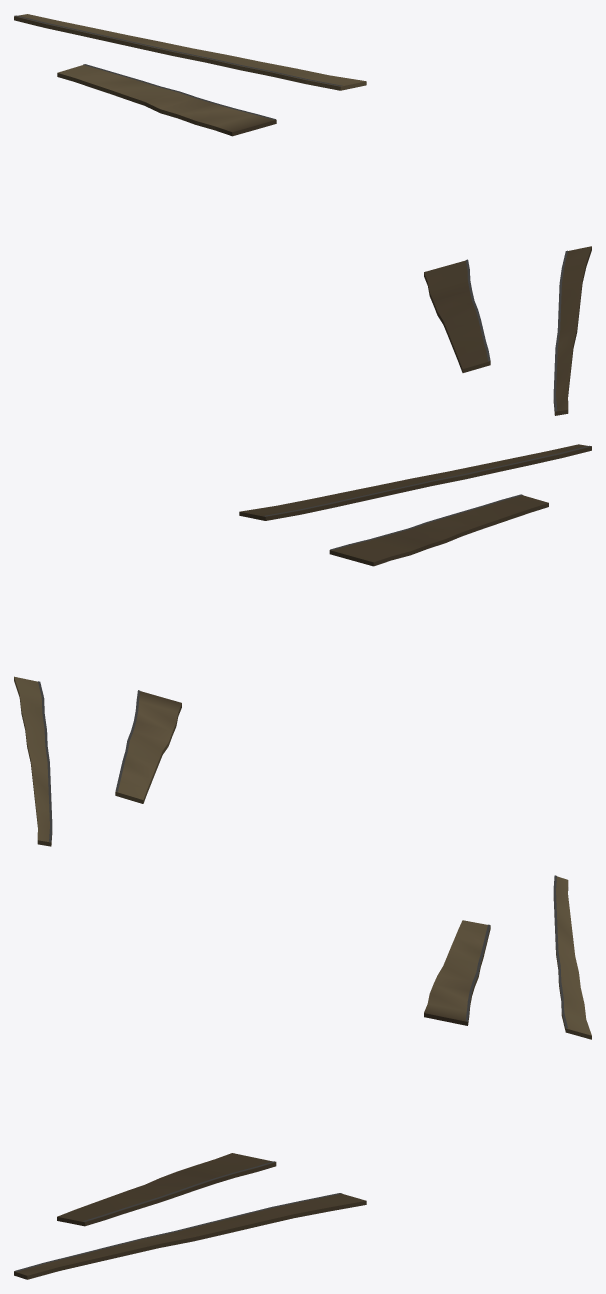
The model's file is fh_mech_bomber_2.glb.
3 views of the same model, one above another, from view 1: azimuth 30°, elevation 25°; view 2: azimuth 150°, elevation 25°; view 3: azimuth 330°, elevation 25° (orthographic).
Visible parts, largest first — view 1: flap_l, slat_l, flap_r, slat_r; view 2: flap_r, slat_r, flap_l, slat_l; view 3: slat_r, flap_r, flap_l, slat_l.
Part boxes in pixels (box(x1,y1,x2,y2)): flap_l: box(57, 64, 276, 136); slat_l: box(14, 14, 366, 90); flap_r: box(424, 259, 490, 372); slat_r: box(553, 246, 591, 415); flap_r: box(329, 494, 548, 566); slat_r: box(239, 444, 591, 520); flap_l: box(115, 690, 181, 803); slat_l: box(14, 676, 52, 846); slat_r: box(14, 1193, 366, 1279); flap_r: box(57, 1153, 276, 1226); flap_l: box(424, 920, 490, 1025); slat_l: box(553, 875, 591, 1039).
Bounding box in the file's own units: 0.225 × 0.00933 × 0.96.
